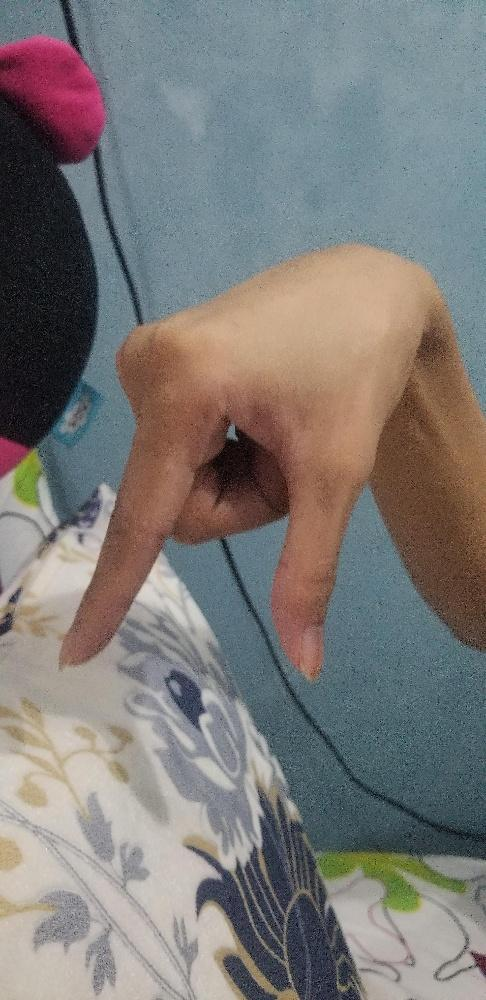q: (55, 237, 443, 680)
